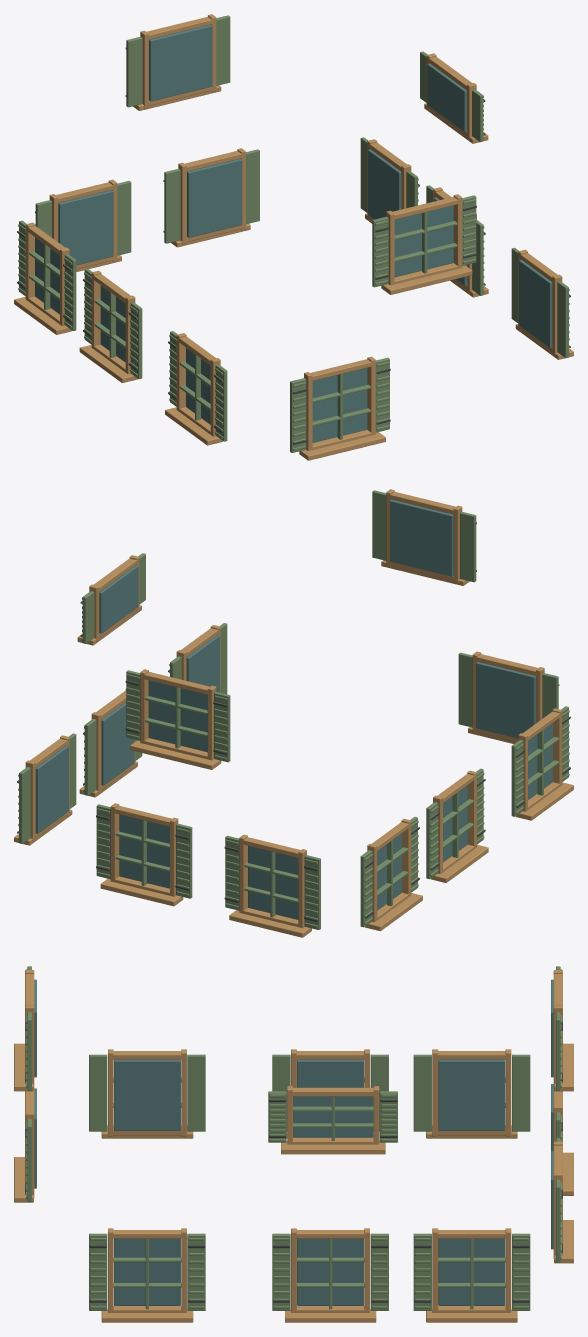
Rendered from SM_PlayerHouse_Windows.fbx.
3 views of the same model, one above another, from view 1: azimuth 30°, elevation 25°; view 2: azimuth 150°, elevation 25°; view 3: azimuth 270°, elevation 25° (orthographic). The views are drawn at different scales.
Parts seen in each view (by area): view 1: SM_PlayerHouse_Windows; view 2: SM_PlayerHouse_Windows; view 3: SM_PlayerHouse_Windows.
Boxes of the visible parts, box(x1,y1,x2,y2) form: SM_PlayerHouse_Windows: box(14, 14, 573, 460); SM_PlayerHouse_Windows: box(14, 489, 573, 937); SM_PlayerHouse_Windows: box(14, 966, 573, 1322).
Bounding box in the file's own units: 870 × 1070 × 502.
